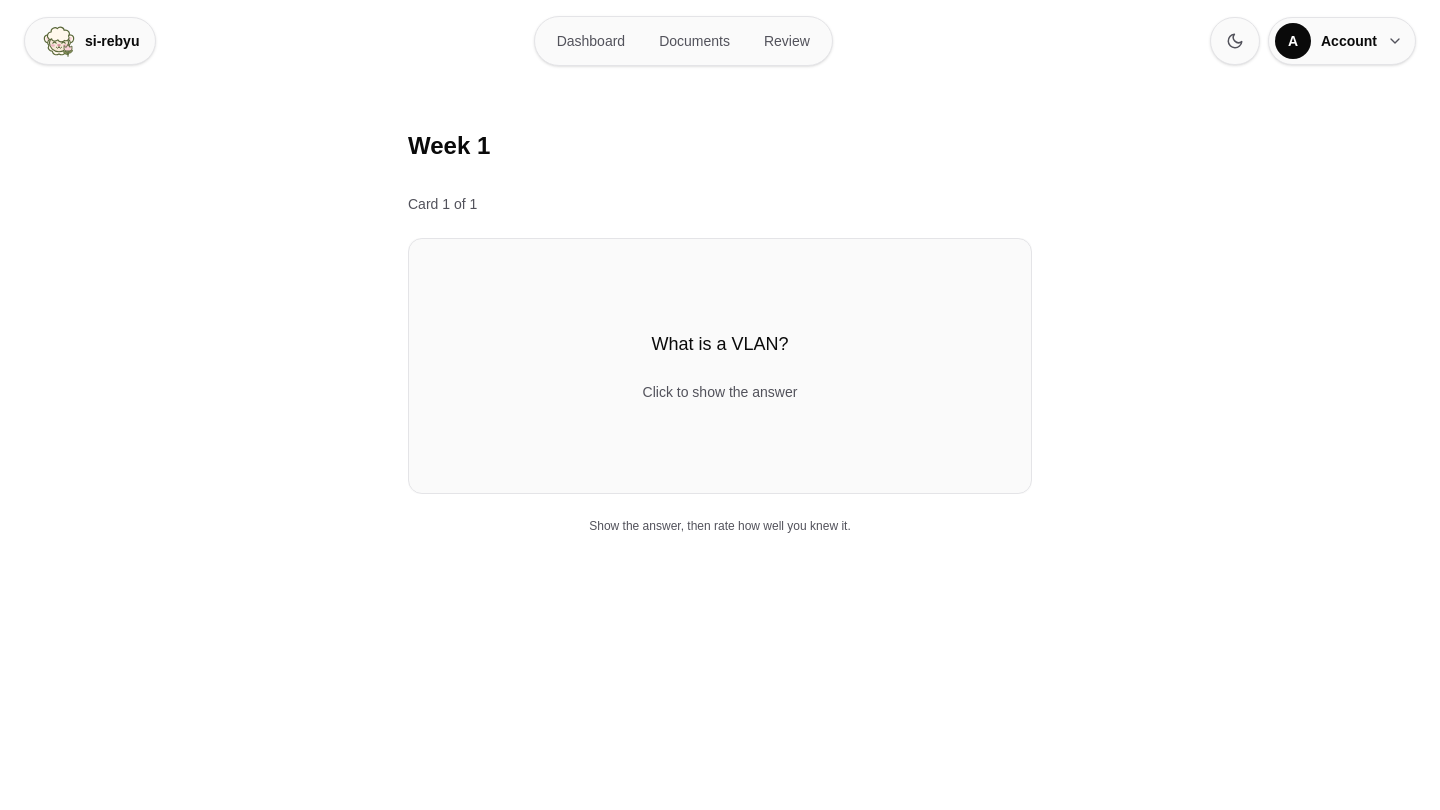
Test: FlashcardSession › shows the front, hides the back, then reveals it on click
Click the text "What is a VLAN?". click: (720, 344)
box: top-left (652, 334), bottom-right (789, 354)
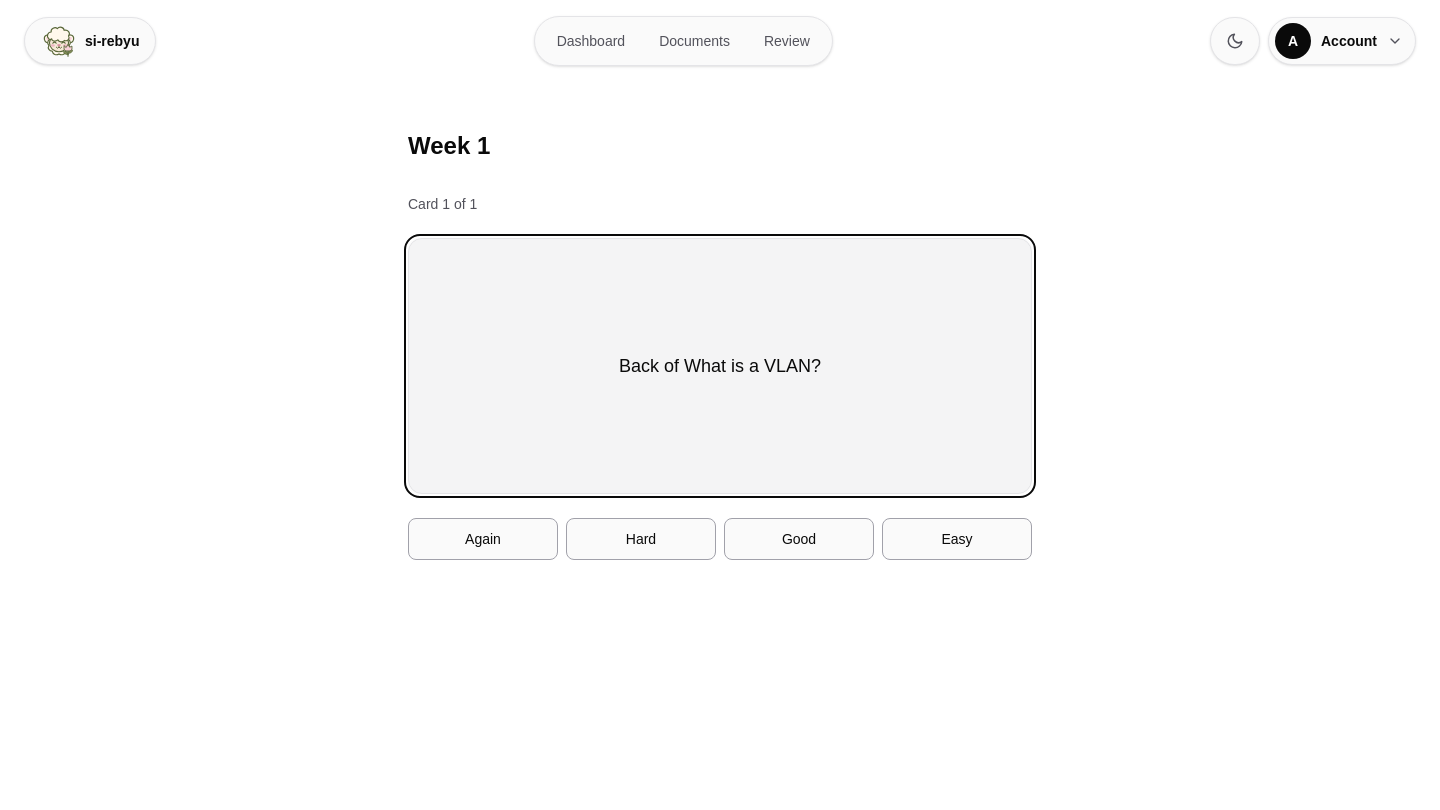
Check: the text "Back of What is a VLAN?" has attribute aria-hidden="false", box top-left (408, 238), bottom-right (1032, 494)
Check: the text "What is a VLAN?" has attribute aria-hidden="true", box top-left (408, 238), bottom-right (1032, 494)
